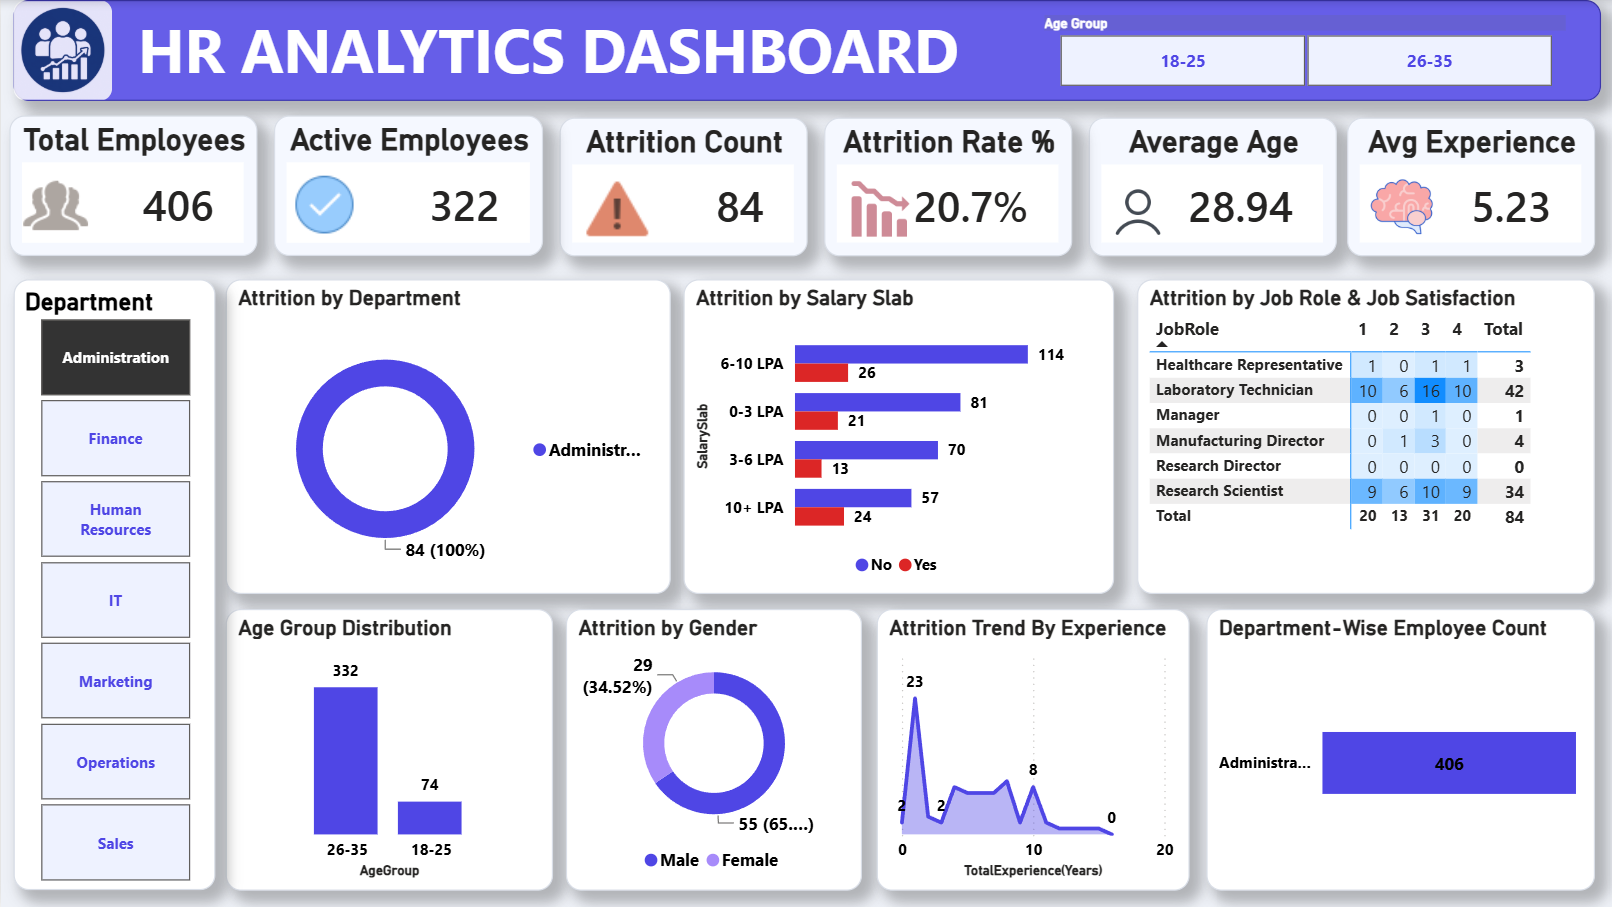

The dashboard page shown, as its layout file describes it:
{"tool":"powerbi","page":{"name":"HR Analytics","canvas":[1280,720],"ordinal":0},"visuals":[{"type":"textbox","box":[10,0,1258.7,79.9],"z":0},{"type":"image","box":[10,0,78.3,79.9],"z":1000},{"type":"cardVisual","title":"Total Employees","fields":{"Data":["CountNonNull(HR_Analytics_data.EmpID)"]},"box":[6.7,91.6,196.5,111.5],"z":2000},{"type":"cardVisual","title":"Attrition Count","fields":{"Data":["Sum(HR_Analytics_data.AttritionCount)"]},"box":[442.9,93.2,196.5,109.9],"z":3000},{"type":"cardVisual","title":"Average Age","fields":{"Data":["Avg(HR_Analytics_data.Age)"]},"box":[862.4,93.2,196.5,109.9],"z":4000},{"type":"cardVisual","title":"Avg Experience","fields":{"Data":["Avg(HR_Analytics_data.YearsatCompany)"]},"box":[1067.2,93.2,196.5,109.9],"z":5000},{"type":"cardVisual","title":"Active Employees","fields":{"Data":["CountNonNull(HR_Analytics_data.EmployeeCount)"]},"box":[216.4,91.6,213.1,111.5],"z":6000},{"type":"cardVisual","title":"Attrition Rate %","fields":{"Data":["HR_Analytics_data.Attrition Rate%"]},"box":[652.6,93.2,196.5,109.9],"z":7000},{"type":"image","box":[216.4,138.2,79.9,48.3],"z":8000},{"type":"image","box":[10,138.2,66.6,51.6],"z":9000},{"type":"image","box":[1082.2,138.2,56.6,51.6],"z":10000},{"type":"image","box":[664.3,133.2,59.9,64.9],"z":11000},{"type":"image","box":[860.8,138.2,81.6,56.6],"z":12000},{"type":"image","box":[437.9,133.2,101.6,64.9],"z":13000},{"type":"donutChart","title":"Attrition by Department","fields":{"Y":["Sum(HR_Analytics_data.AttritionCount)"],"Category":["HR_Analytics_data.Department"]},"box":[178.1,221.4,353,249.7],"z":14000},{"type":"clusteredBarChart","title":"Attrition by Salary Slab","fields":{"Category":["HR_Analytics_data.SalarySlab"],"Y":["CountNonNull(HR_Analytics_data.EmpID)"],"Series":["HR_Analytics_data.Attrition"]},"box":[541.1,221.4,341.3,249.7],"z":15000},{"type":"pivotTable","title":"Attrition by Job Role & Job Satisfaction","fields":{"Rows":["HR_Analytics_data.JobRole"],"Values":["Sum(HR_Analytics_data.AttritionCount)"],"Columns":["HR_Analytics_data.JobSatisfaction"]},"box":[900.7,221.4,363,249.7],"z":16000},{"type":"columnChart","title":"Age Group Distribution","fields":{"Y":["Sum(HR_Analytics_data.EmployeeCount)"],"Category":["HR_Analytics_data.AgeGroup"]},"box":[178.1,482.8,259.7,223.1],"z":17000},{"type":"donutChart","title":"Attrition by Gender","fields":{"Category":["HR_Analytics_data.Gender"],"Y":["Sum(HR_Analytics_data.AttritionCount)"]},"box":[447.9,482.8,234.8,223.1],"z":18000},{"type":"areaChart","title":"Attrition Trend By Experience","fields":{"Category":["HR_Analytics_data.TotalExperience(Years)"],"Y2":["Sum(HR_Analytics_data.AttritionCount)"]},"box":[694.3,482.8,248.1,223.1],"z":19000},{"type":"funnel","title":"Department-Wise Employee Count","fields":{"Category":["HR_Analytics_data.Department"],"Y":["CountNonNull(HR_Analytics_data.EmpID)"]},"box":[955.7,482.8,308,223.1],"z":20000},{"type":"slicer","fields":{"Values":["HR_Analytics_data.Department"]},"box":[10,221.4,159.8,484.5],"z":21000},{"type":"slicer","fields":{"Values":["HR_Analytics_data.AgeGroup"]},"box":[819.1,6.7,429.5,68.3],"z":22000}]}

Visuals, with their boxes in screenshot pixels (x1, y1, x2, y2), scaled from the page's 1280x720 canvas onto the 1612x907 screenshot:
textbox: (x1=13, y1=0, x2=1598, y2=101)
image: (x1=13, y1=0, x2=111, y2=101)
"Total Employees" cardVisual: (x1=8, y1=115, x2=256, y2=256)
"Attrition Count" cardVisual: (x1=558, y1=117, x2=805, y2=256)
"Average Age" cardVisual: (x1=1086, y1=117, x2=1334, y2=256)
"Avg Experience" cardVisual: (x1=1344, y1=117, x2=1591, y2=256)
"Active Employees" cardVisual: (x1=273, y1=115, x2=541, y2=256)
"Attrition Rate %" cardVisual: (x1=822, y1=117, x2=1069, y2=256)
image: (x1=273, y1=174, x2=373, y2=235)
image: (x1=13, y1=174, x2=96, y2=239)
image: (x1=1363, y1=174, x2=1434, y2=239)
image: (x1=837, y1=168, x2=912, y2=250)
image: (x1=1084, y1=174, x2=1187, y2=245)
image: (x1=551, y1=168, x2=679, y2=250)
"Attrition by Department" donutChart: (x1=224, y1=279, x2=669, y2=593)
"Attrition by Salary Slab" clusteredBarChart: (x1=681, y1=279, x2=1111, y2=593)
"Attrition by Job Role & Job Satisfaction" pivotTable: (x1=1134, y1=279, x2=1591, y2=593)
"Age Group Distribution" columnChart: (x1=224, y1=608, x2=551, y2=889)
"Attrition by Gender" donutChart: (x1=564, y1=608, x2=860, y2=889)
"Attrition Trend By Experience" areaChart: (x1=874, y1=608, x2=1187, y2=889)
"Department-Wise Employee Count" funnel: (x1=1204, y1=608, x2=1591, y2=889)
slicer - HR_Analytics_data.Department: (x1=13, y1=279, x2=214, y2=889)
slicer - HR_Analytics_data.AgeGroup: (x1=1032, y1=8, x2=1572, y2=94)
